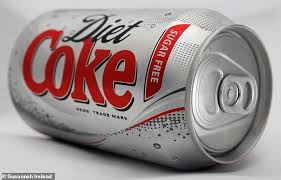can: (5, 3, 274, 172)
